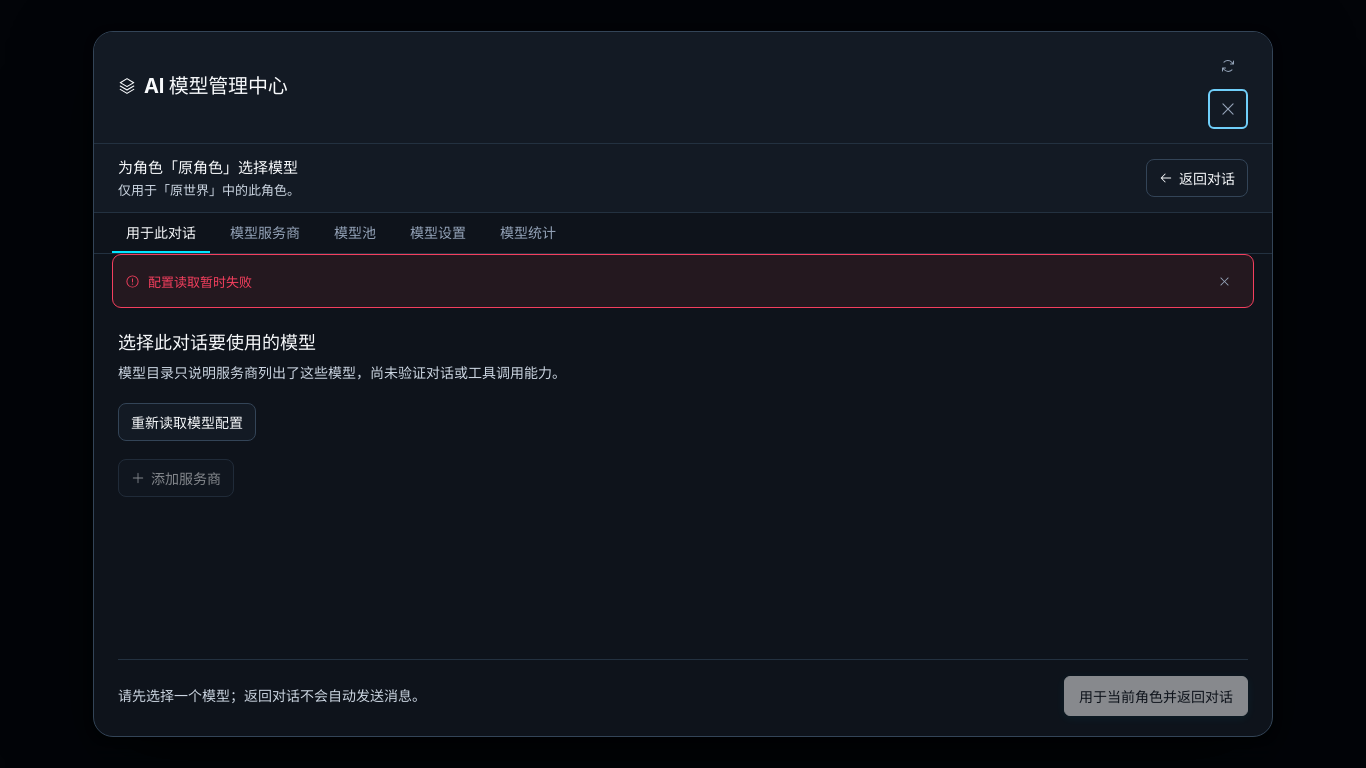
Test case: conversation model setup handoff › retries a failed initial read without leaving a permanent loading state
Click the button "重新读取模型配置" at (187, 422), box [118,403,256,441]
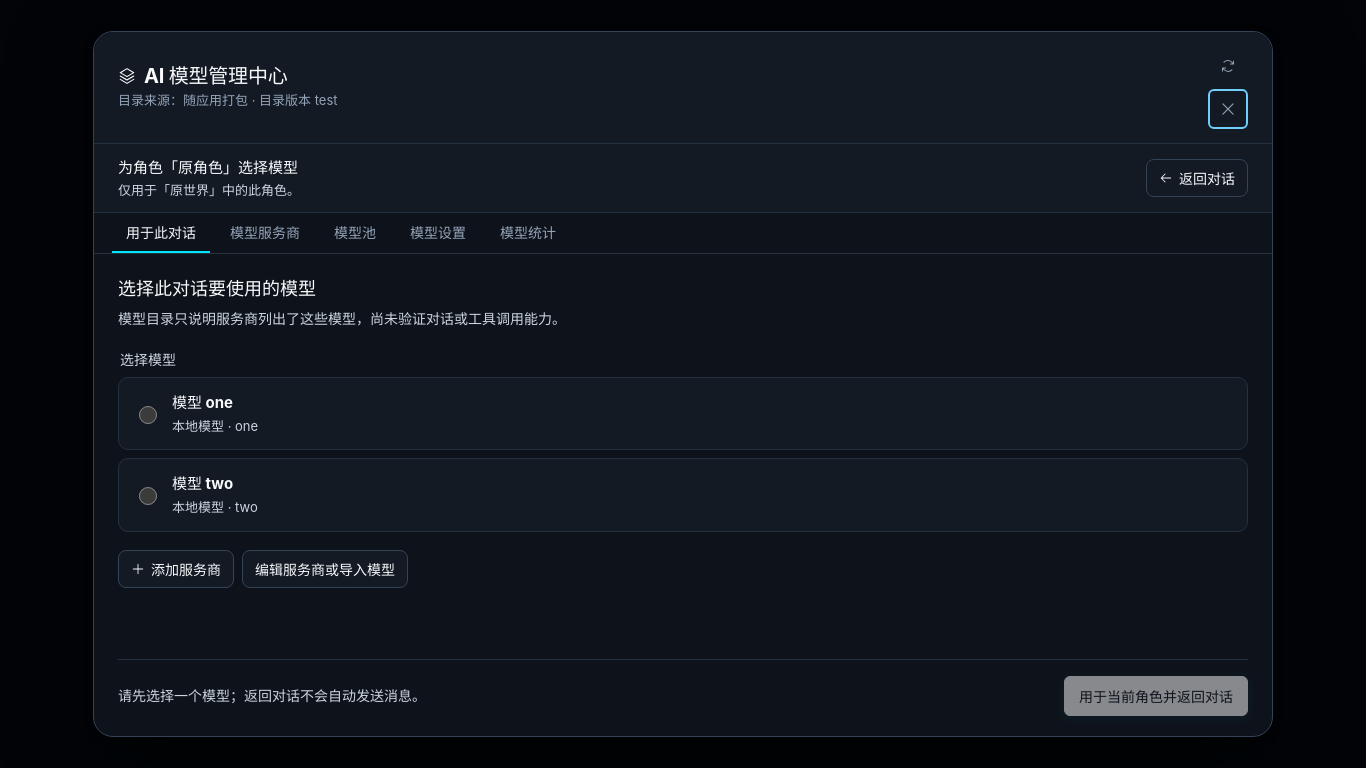
Check: the number of radio buttons named "chat-setup-model" is 2, box [139,406,157,424]; [139,487,157,505]
Check: the message "配置读取暂时失败" is gone
